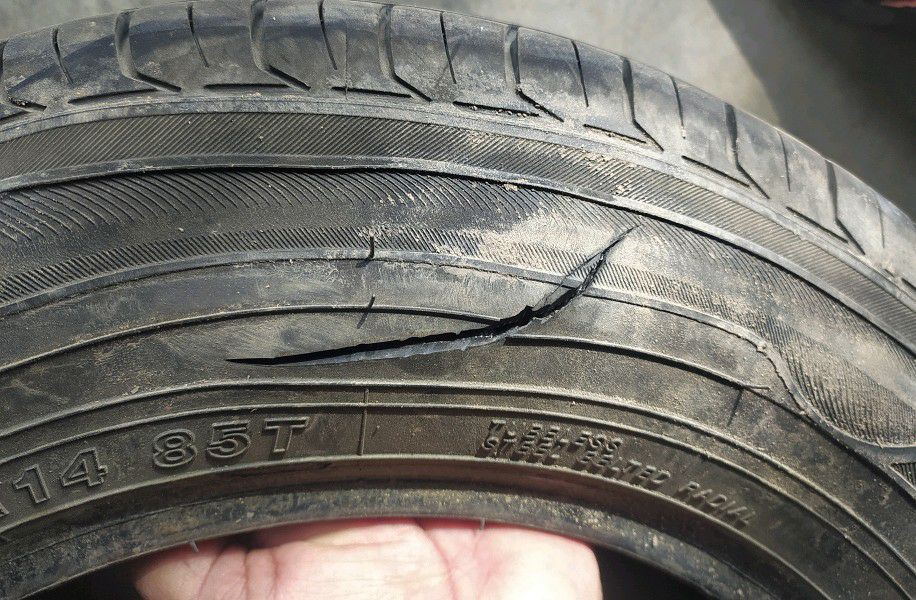cut: (215, 213, 650, 375)
